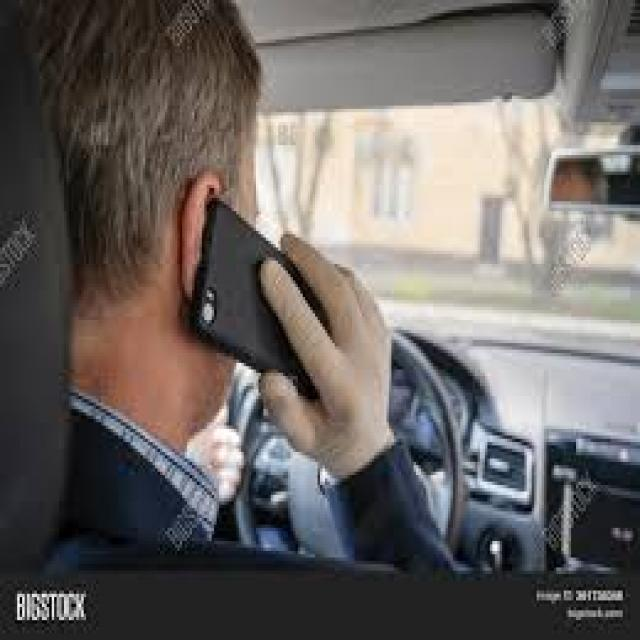Cellphone_calling: (170, 162, 386, 445)
